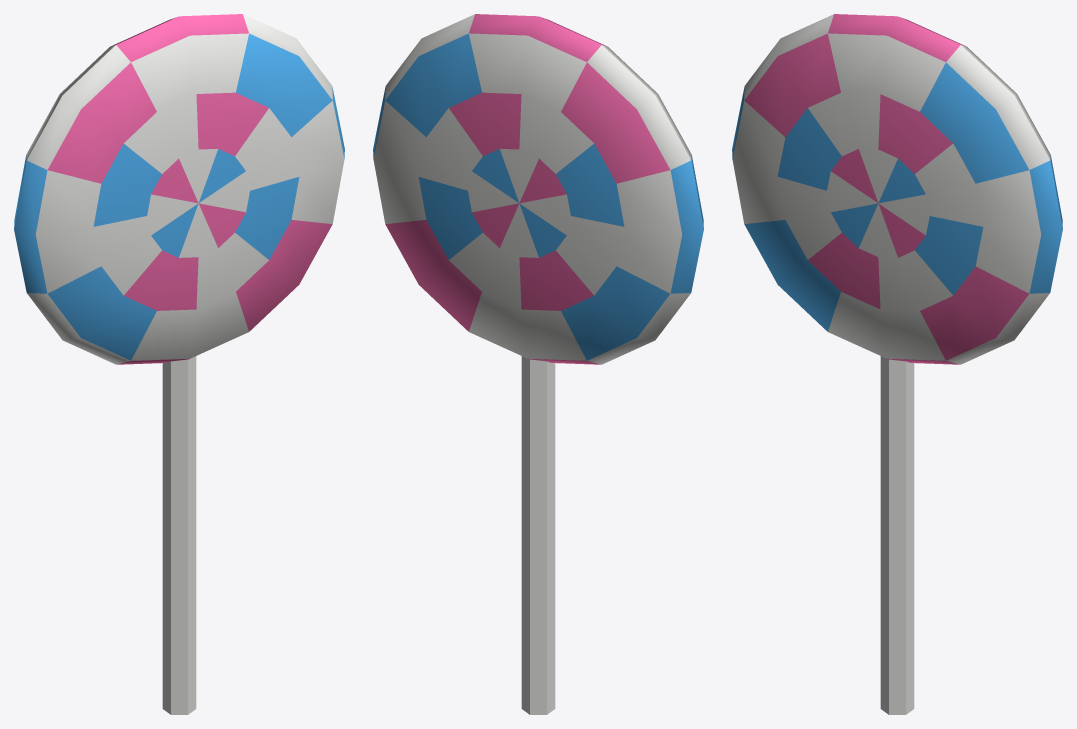
The model's file is Lollipop.fbx.
3 renders of one model, left to right at view 1: azimuth 30°, elevation 25°; view 2: azimuth 150°, elevation 25°; view 3: azimuth 330°, elevation 25°, orthographic.
Parts seen in each view (by area): view 1: Lollipop; view 2: Lollipop; view 3: Lollipop.
Part boxes in pixels (x1,y1,x2,y2): Lollipop: (14,14,344,714); Lollipop: (373,14,703,714); Lollipop: (732,14,1062,714).
Bounding box in the file's own units: 0.9 × 1.8 × 0.18.
Materials: 1 (1 with a texture image).
